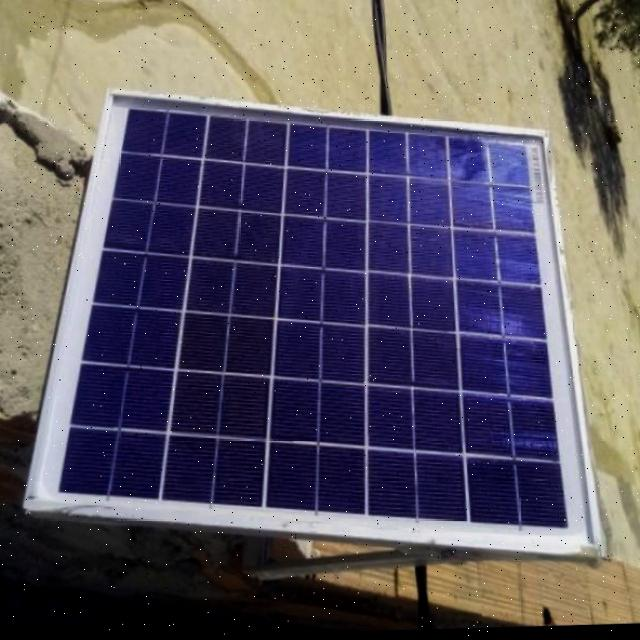Normal Solar Panel: (5, 77, 618, 568)
